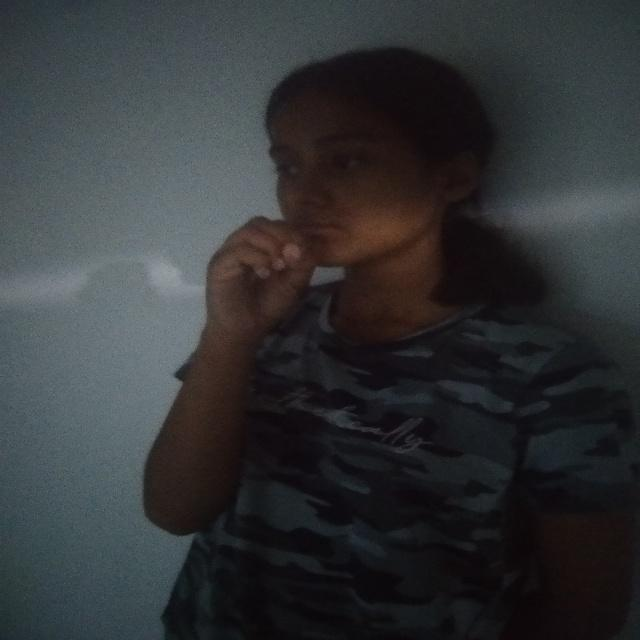Fist Mouth: (199, 39, 460, 359)
